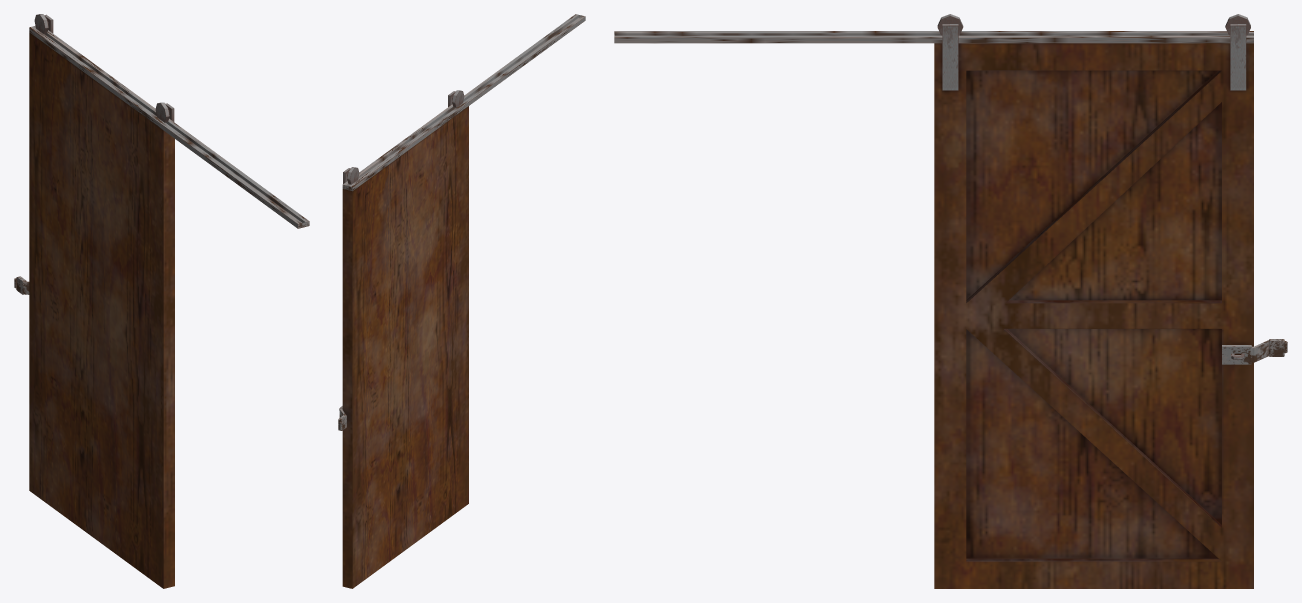
File: Porta_Dispensa_Bar.fbx
The picture shows the model from 3 angles, left to right: view 1: azimuth 30°, elevation 25°; view 2: azimuth 150°, elevation 25°; view 3: azimuth 270°, elevation 25°; orthographic projection. The views are drawn at different scales.
Parts seen in each view (by area): view 1: Porta_Dispensa, Corredisas; view 2: Porta_Dispensa, Corredisas; view 3: Porta_Dispensa, Corredisas, Ferro_Fecha.
Part boxes in pixels (box(x1,y1,x2,y2)): Porta_Dispensa: box(29, 14, 174, 588); Corredisas: box(29, 26, 309, 228); Porta_Dispensa: box(339, 90, 468, 588); Corredisas: box(342, 14, 585, 191); Porta_Dispensa: box(934, 14, 1253, 588); Corredisas: box(614, 31, 1253, 43); Ferro_Fecha: box(1222, 339, 1287, 364).
Size of the model in its own units: 16.87 by 349 by 373.
